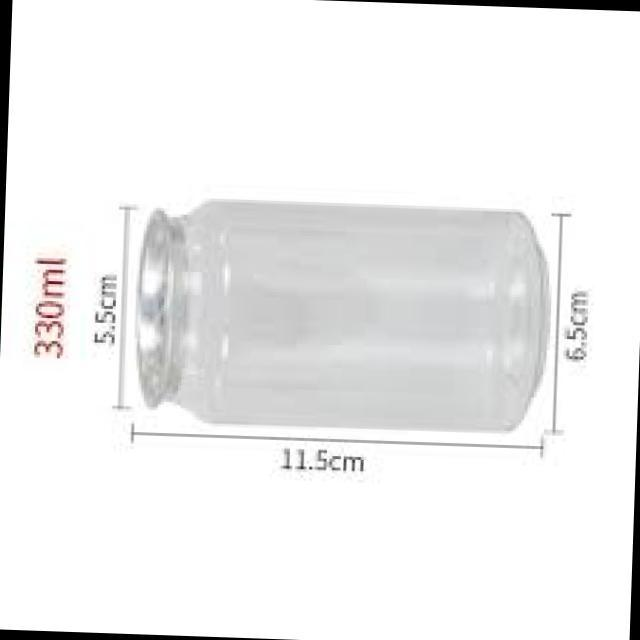good: (98, 180, 555, 456)
